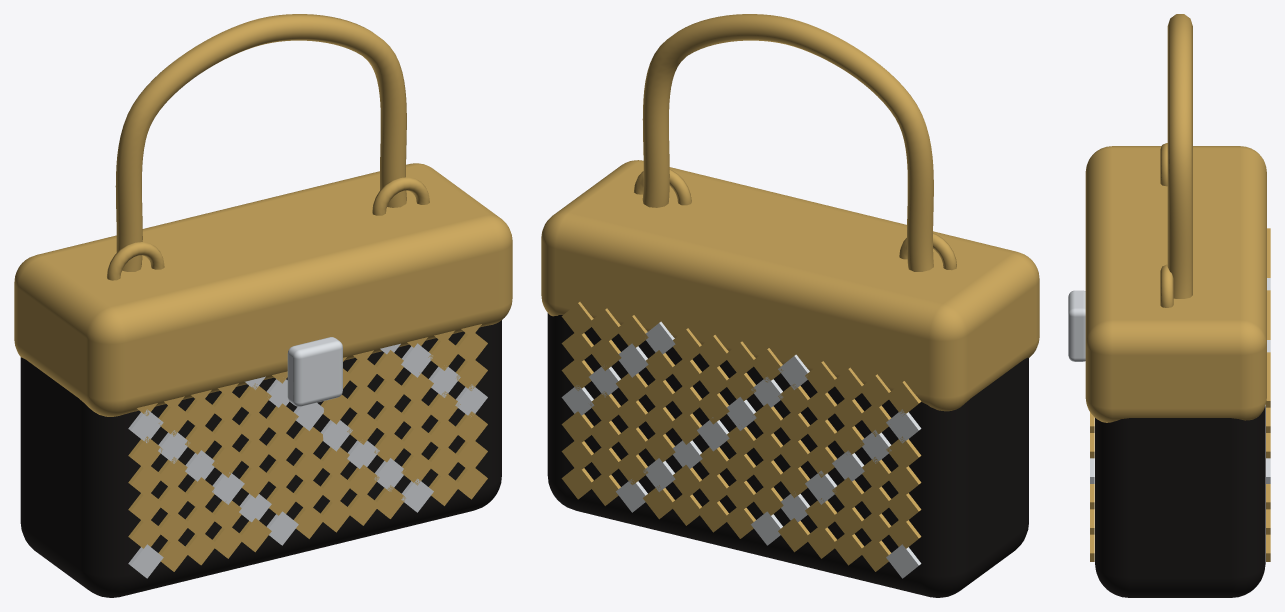
The model's file is concept-bag.glb.
3 renders of one model, left to right at view 1: azimuth 30°, elevation 25°; view 2: azimuth 150°, elevation 25°; view 3: azimuth 270°, elevation 25°, orthographic. The views are drawn at different scales.
Parts seen in each view (by area): view 1: MERGE bags - interpreted CONCEPT; view 2: MERGE bags - interpreted CONCEPT; view 3: MERGE bags - interpreted CONCEPT.
Part boxes in pixels (x1,y1,x2,y2): MERGE bags - interpreted CONCEPT: (14,14,512,597); MERGE bags - interpreted CONCEPT: (541,14,1039,597); MERGE bags - interpreted CONCEPT: (1068,14,1270,597).
Size of the model in its own units: 1.72 by 1.99 by 0.759.
